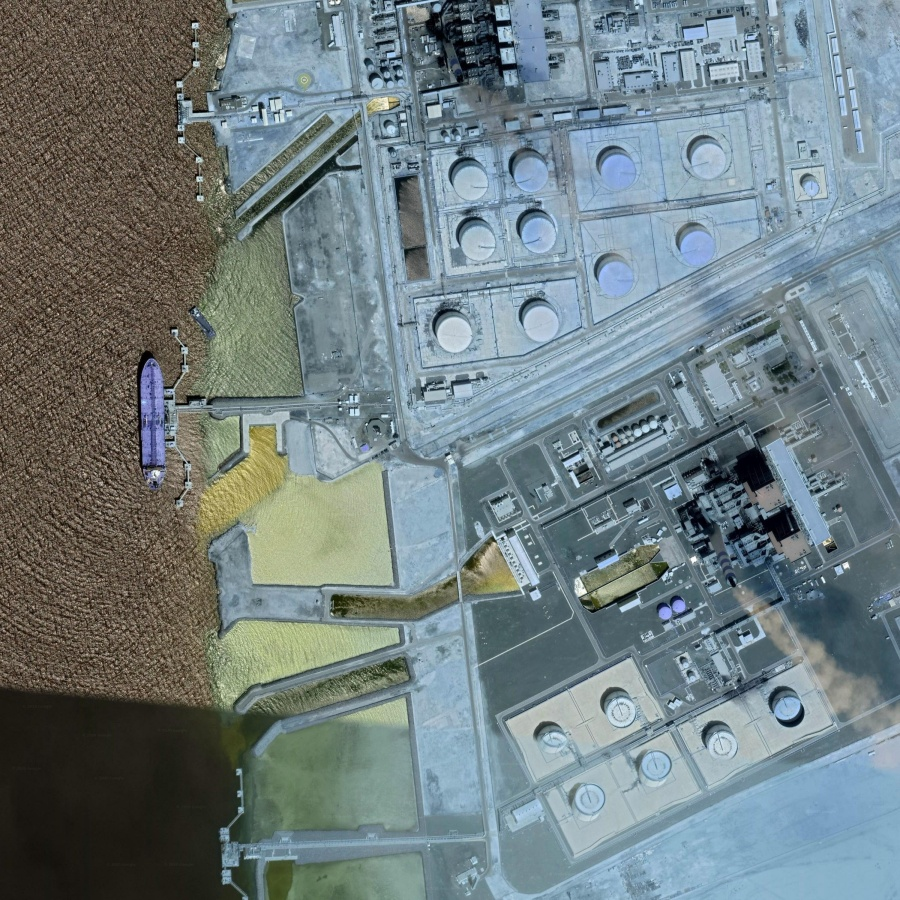PowerPlant: (382, 111, 762, 374)
